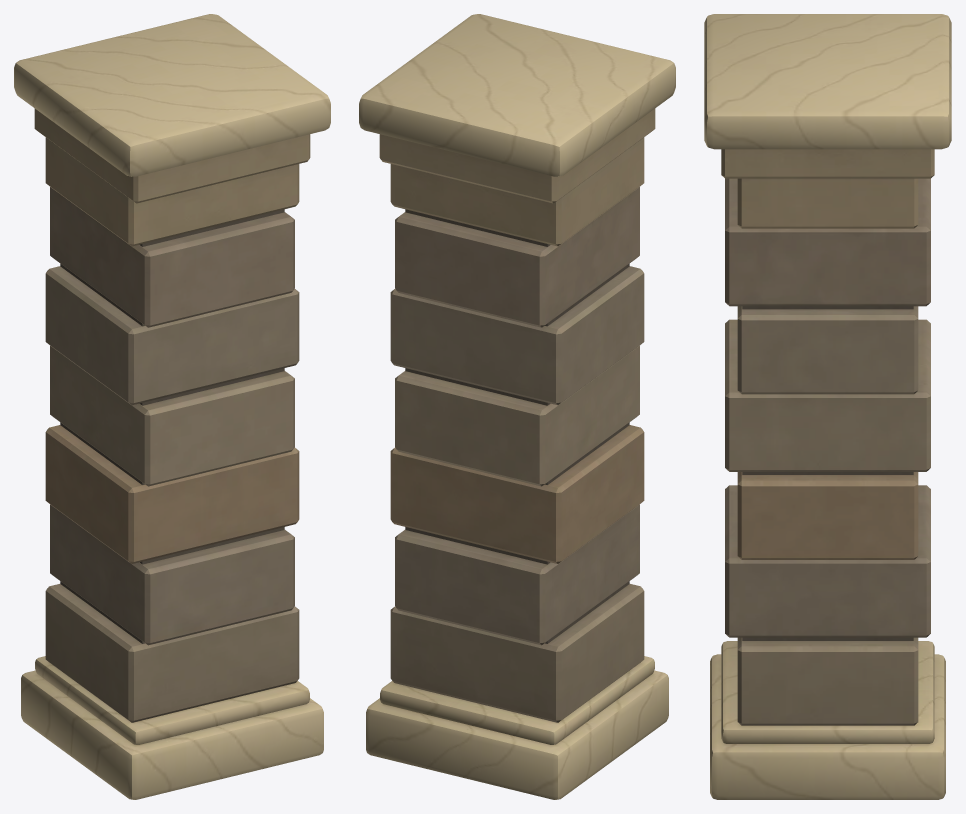
The model's file is corner_pier.glb.
3 views of the same model, side by side, from view 1: azimuth 30°, elevation 25°; view 2: azimuth 150°, elevation 25°; view 3: azimuth 270°, elevation 25° (orthographic). The views are drawn at different scales.
Visible parts, largest first — view 1: corner_pier; view 2: corner_pier; view 3: corner_pier.
Part boxes in pixels (box(x1,y1,x2,y2)): corner_pier: box(14, 14, 330, 799); corner_pier: box(359, 14, 675, 799); corner_pier: box(704, 14, 951, 799).
Size of the model in its own units: 1.3 by 4 by 1.3.
1 material, 1 textured.
